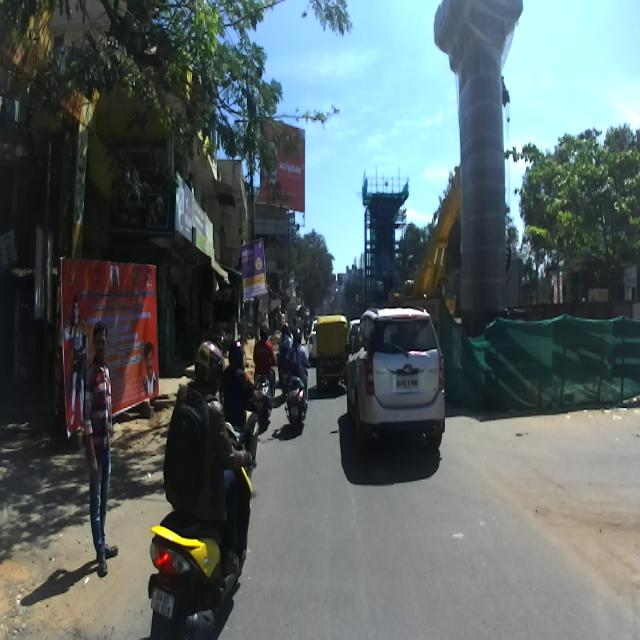car ahead at: (344, 310, 446, 443)
person ahead at: (82, 324, 118, 579)
